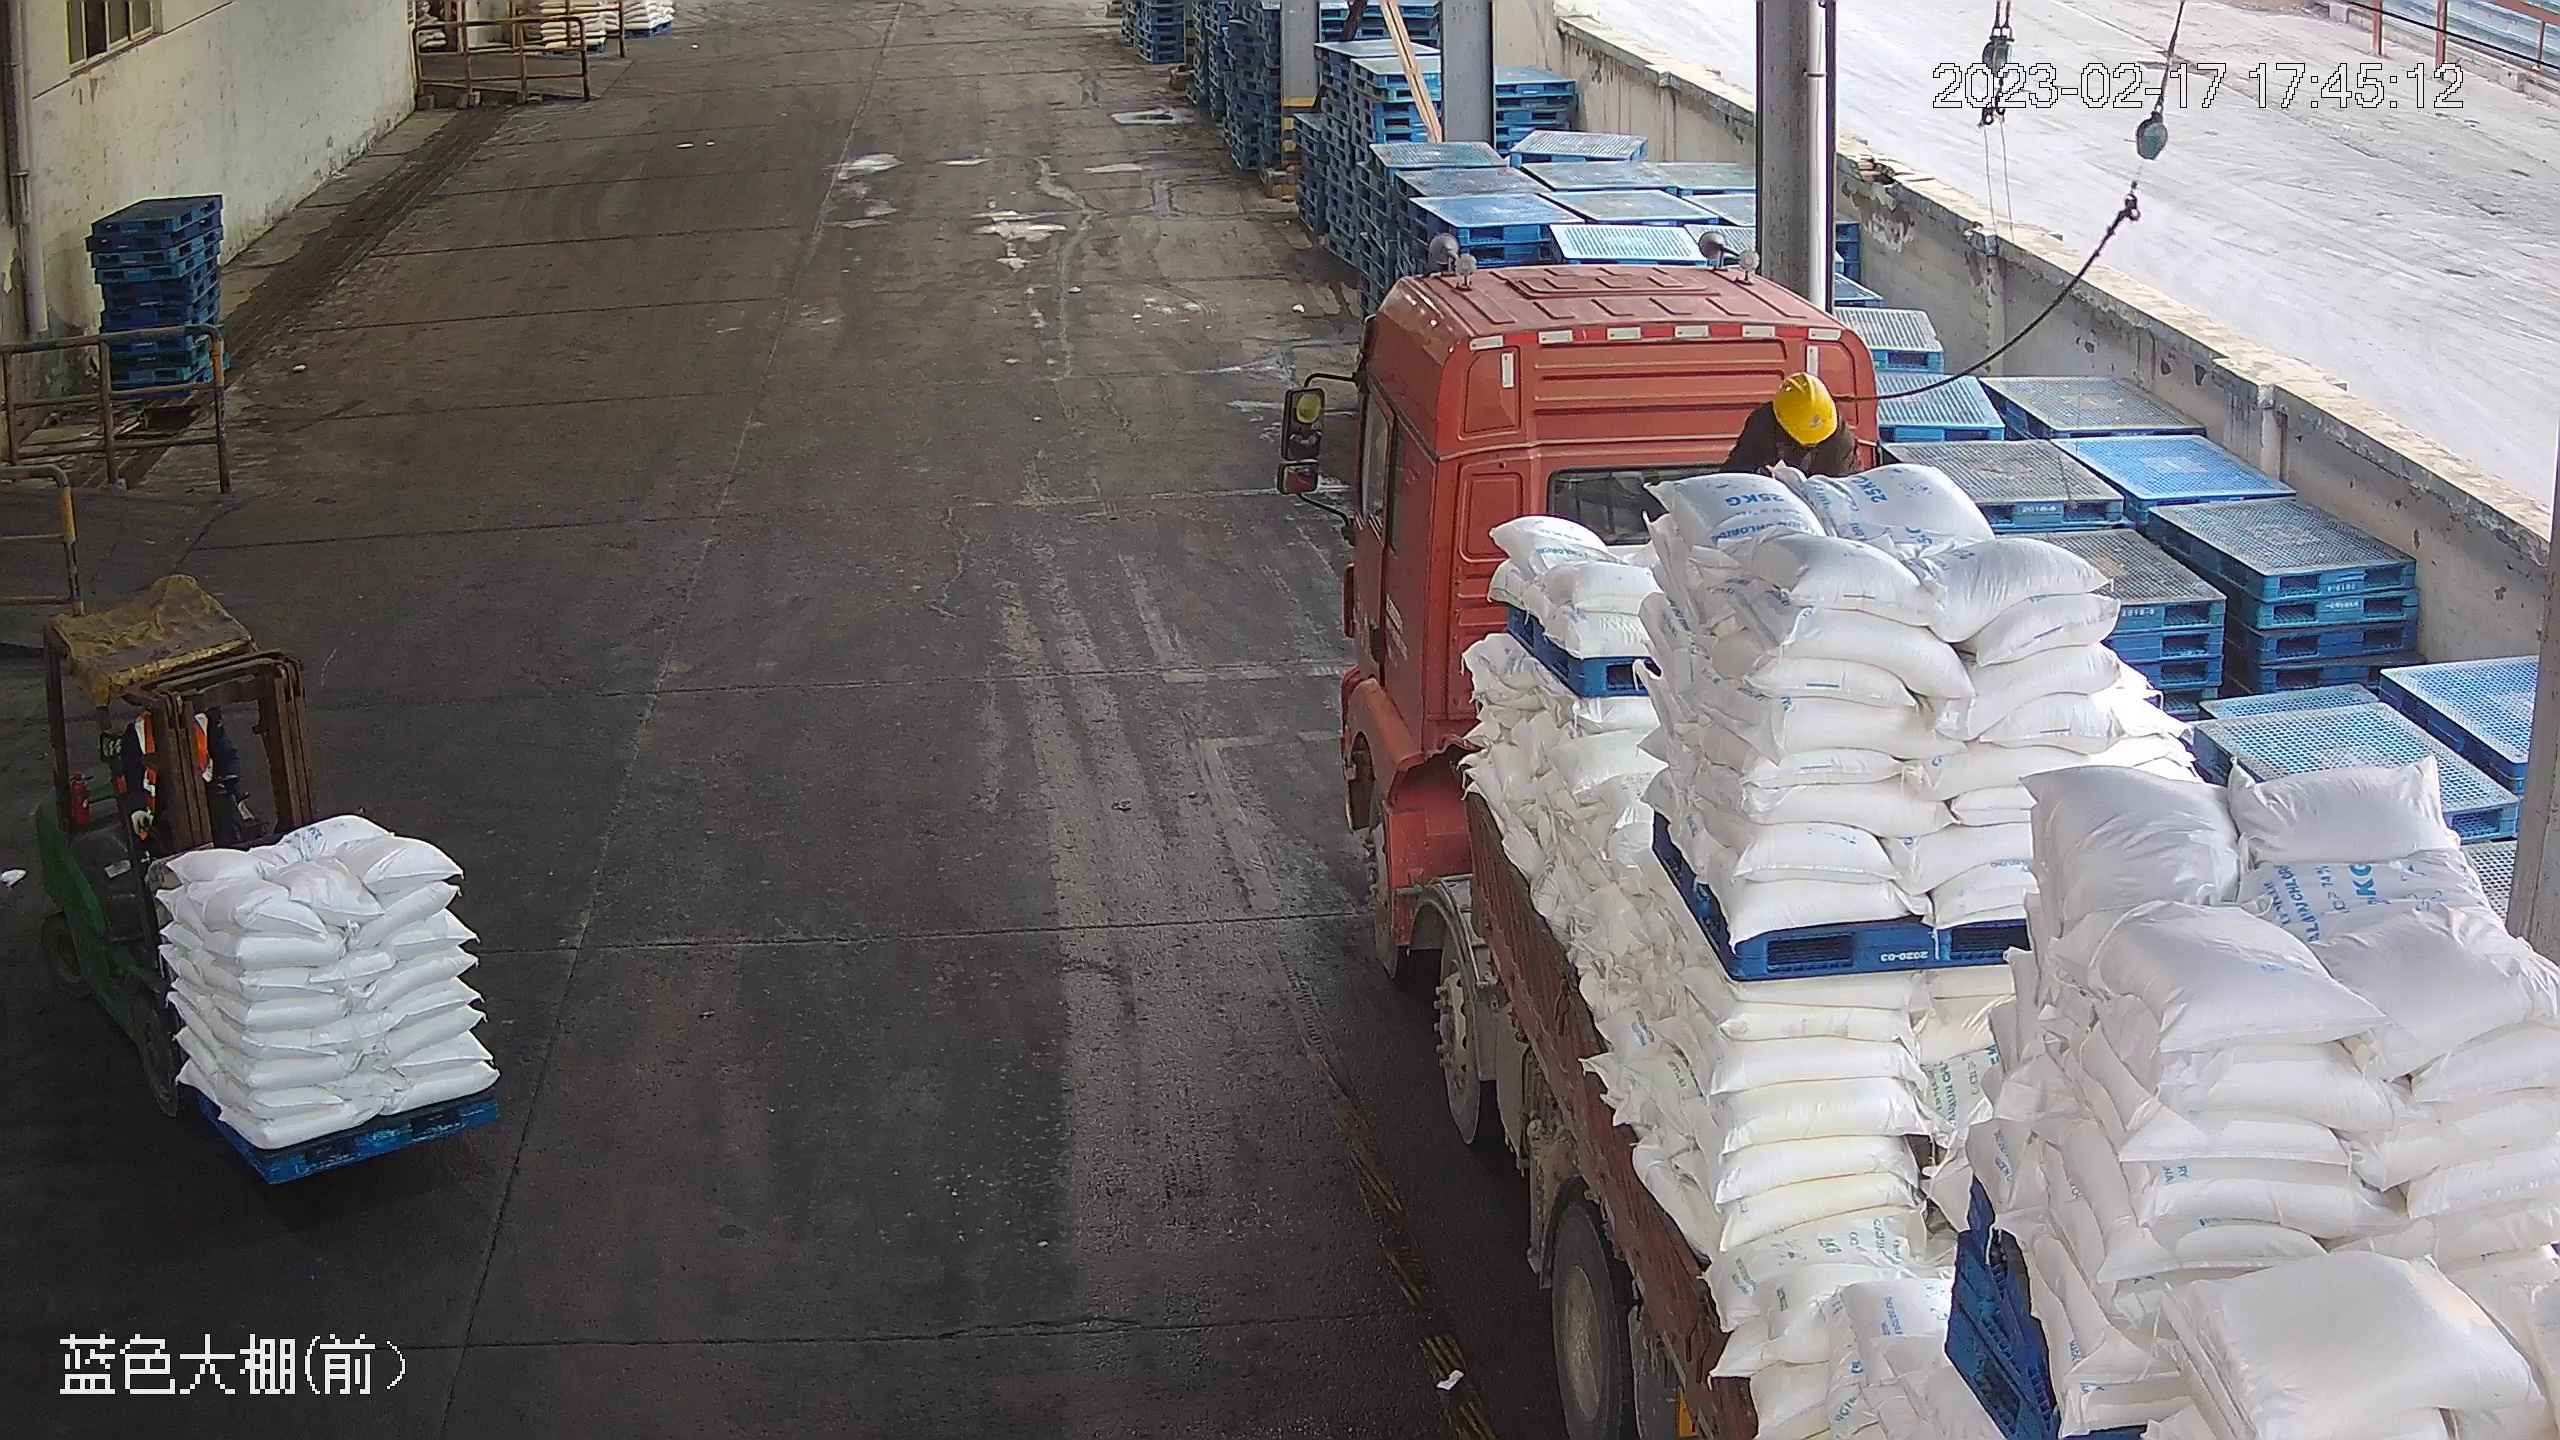belt: (1765, 391, 1863, 475)
head: (1742, 371, 1860, 461)
helmet: (1772, 371, 1838, 446)
truck: (1335, 262, 2560, 1440)
